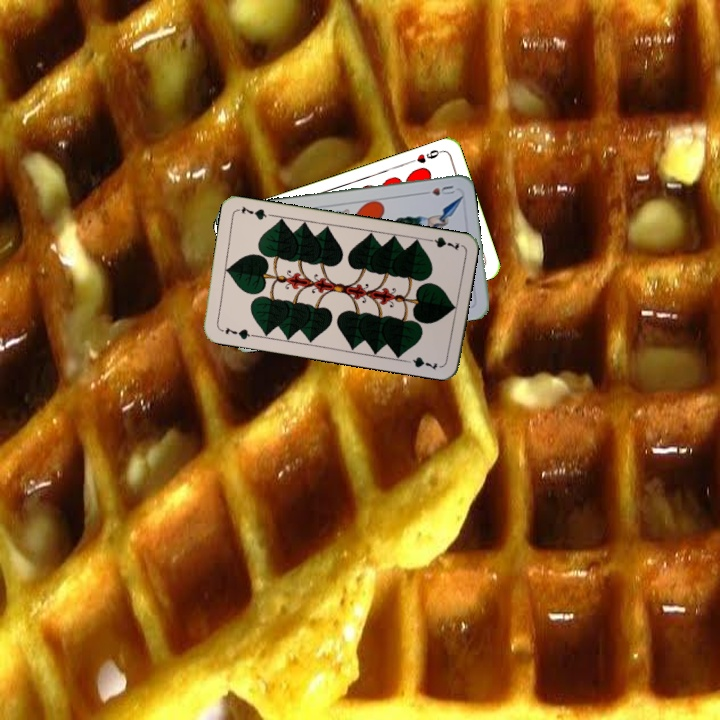G7: (422, 233, 462, 253), (216, 323, 257, 342)
H9: (406, 146, 445, 166)
HU: (417, 182, 457, 198)
